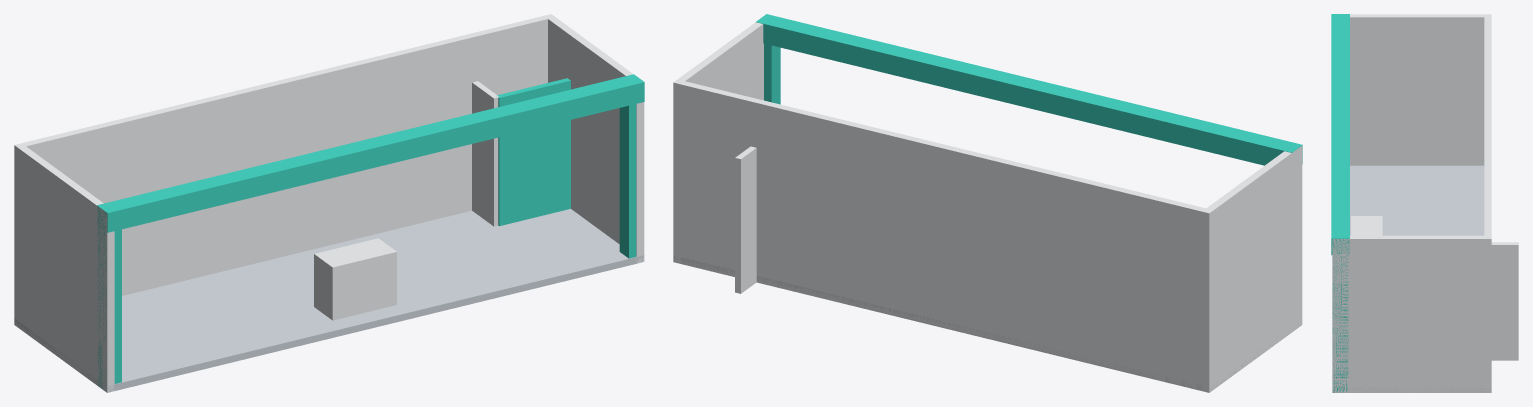
The picture shows the model from 3 angles, left to right: view 1: azimuth 30°, elevation 25°; view 2: azimuth 150°, elevation 25°; view 3: azimuth 270°, elevation 25°; orthographic projection. The views are drawn at different scales.
Parts seen in each view (by area): view 1: Exhibition Booth Concept; view 2: Exhibition Booth Concept; view 3: Exhibition Booth Concept.
Part boxes in pixels (x1,y1,x2,y2): Exhibition Booth Concept: (14,14,644,392); Exhibition Booth Concept: (673,14,1302,392); Exhibition Booth Concept: (1331,14,1518,392).
Bounding box in the file's own units: 10 × 3.2 × 3.52.
